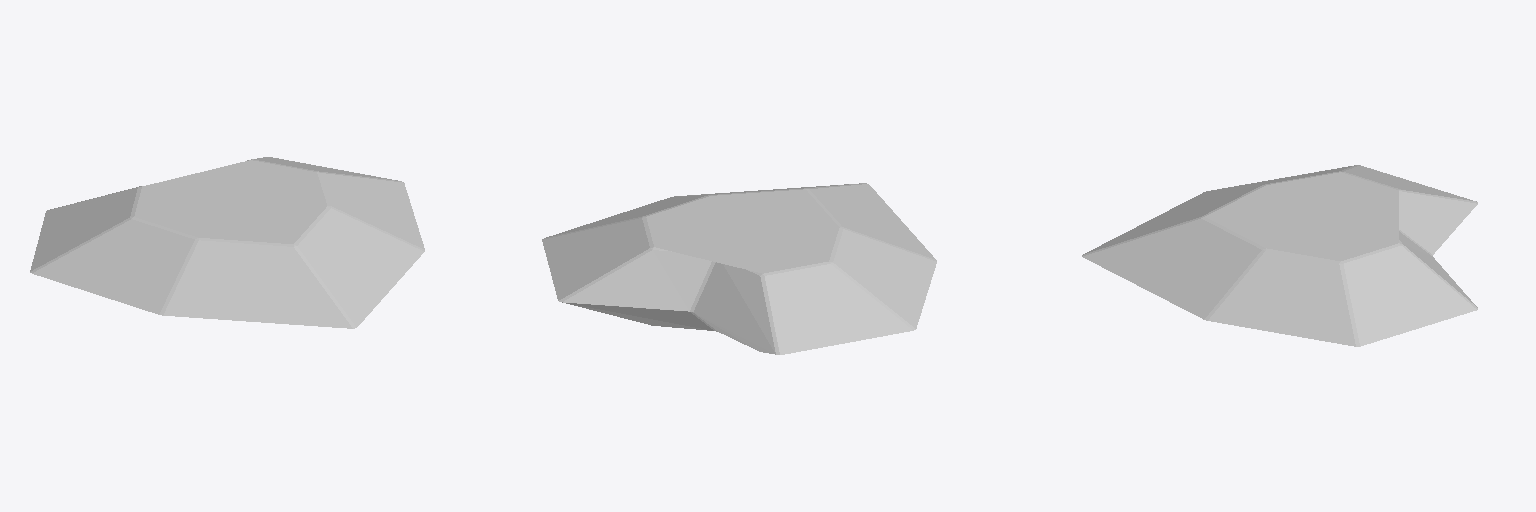
File: gem-heart.obj
The picture shows the model from 3 angles: view 1: azimuth 30°, elevation 25°; view 2: azimuth 150°, elevation 25°; view 3: azimuth 270°, elevation 25°; orthographic projection.
Visible parts, largest first — view 1: gem_Cylinder; view 2: gem_Cylinder; view 3: gem_Cylinder.
Boxes of the visible parts, <box> form: gem_Cylinder: <box>30,157,424,328</box>; gem_Cylinder: <box>542,183,936,354</box>; gem_Cylinder: <box>1082,165,1477,346</box>.
Bounding box in the file's own units: 19.91 × 4 × 18.34.